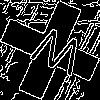W: (25, 25, 87, 86)
